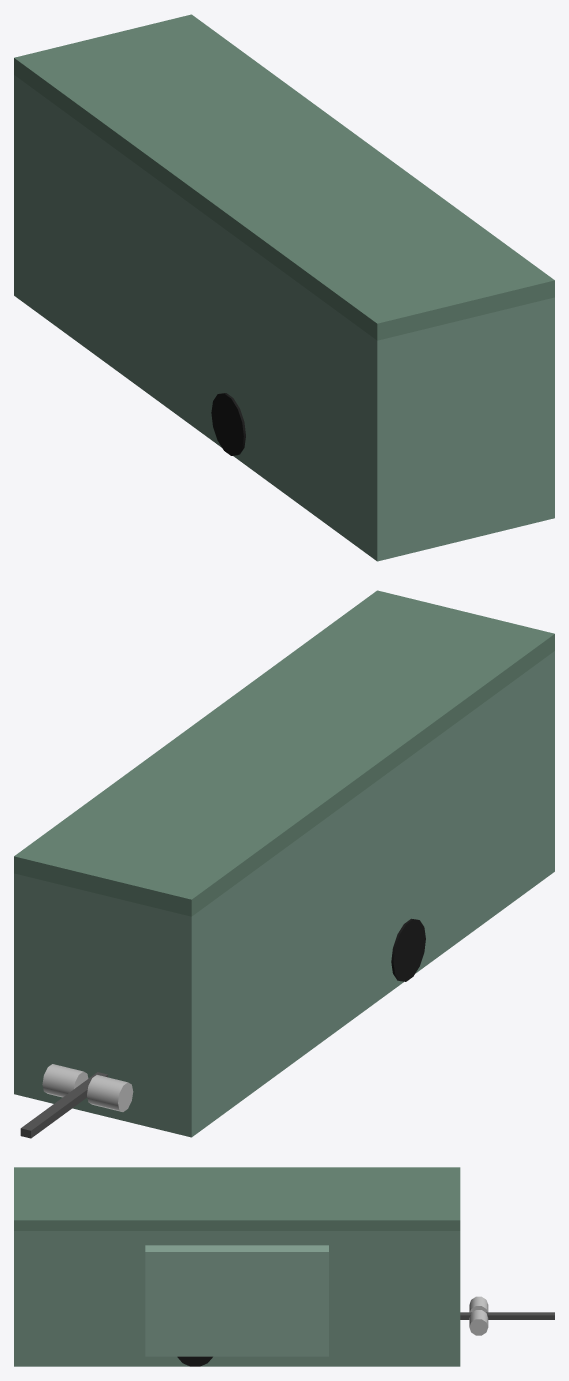
File: rv-travel-trailer.glb
The picture shows the model from 3 angles, top to bottom: view 1: azimuth 30°, elevation 25°; view 2: azimuth 150°, elevation 25°; view 3: azimuth 270°, elevation 25°; orthographic projection. The views are drawn at different scales.
Bounding box in the file's own units: 2.73 × 3.07 × 10.3.
